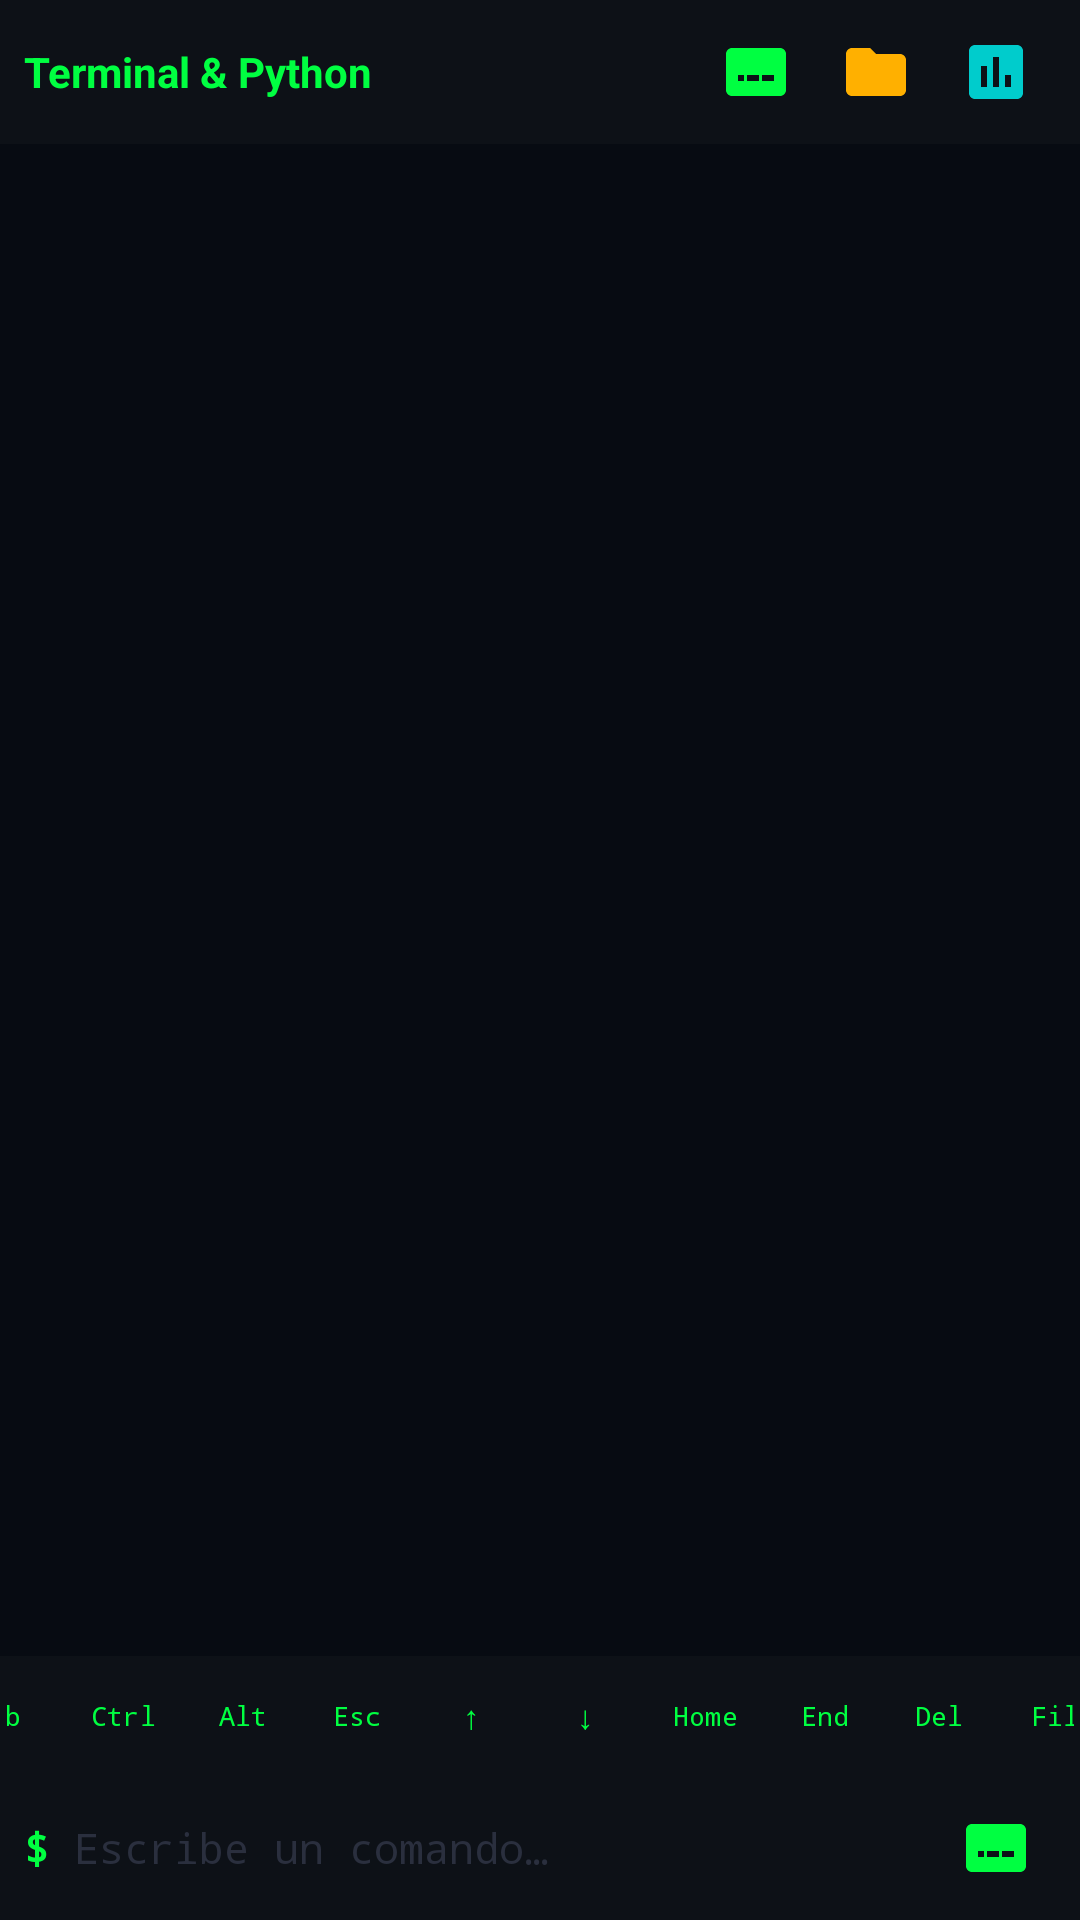

Icons on this 1080×1920 Android screen, each with its box as (x1, y1, x2, y2):
Archivos: (846, 48, 906, 96)
